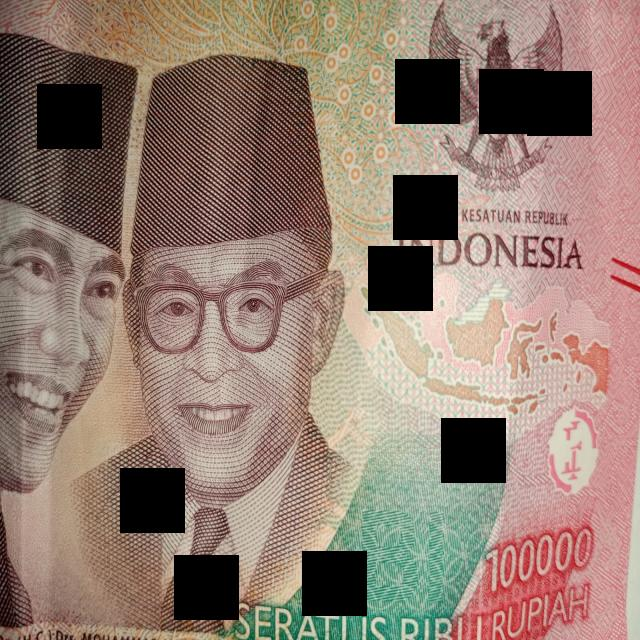seratusribu rupiah: (0, 0, 640, 639)
